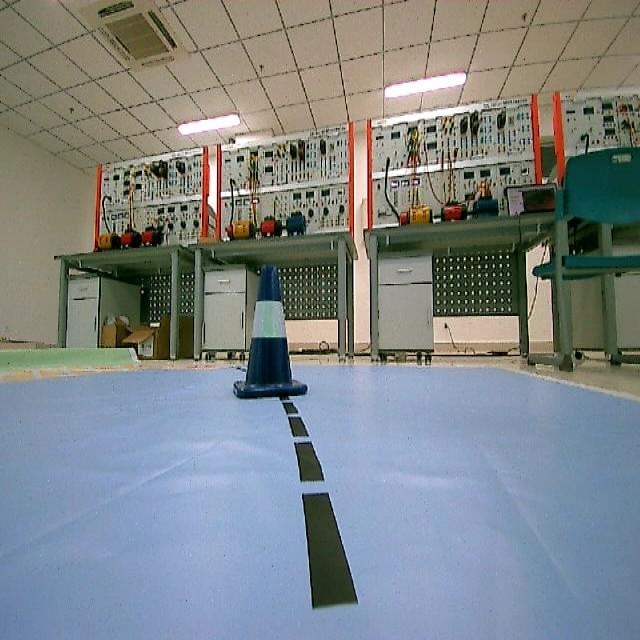obstacle: (221, 260, 320, 404)
